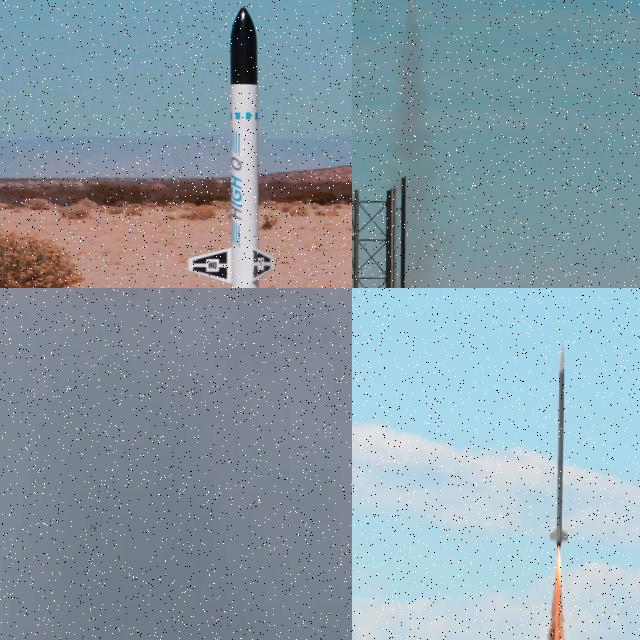Rocket: (186, 5, 279, 288), (549, 342, 568, 547), (90, 526, 96, 532)
